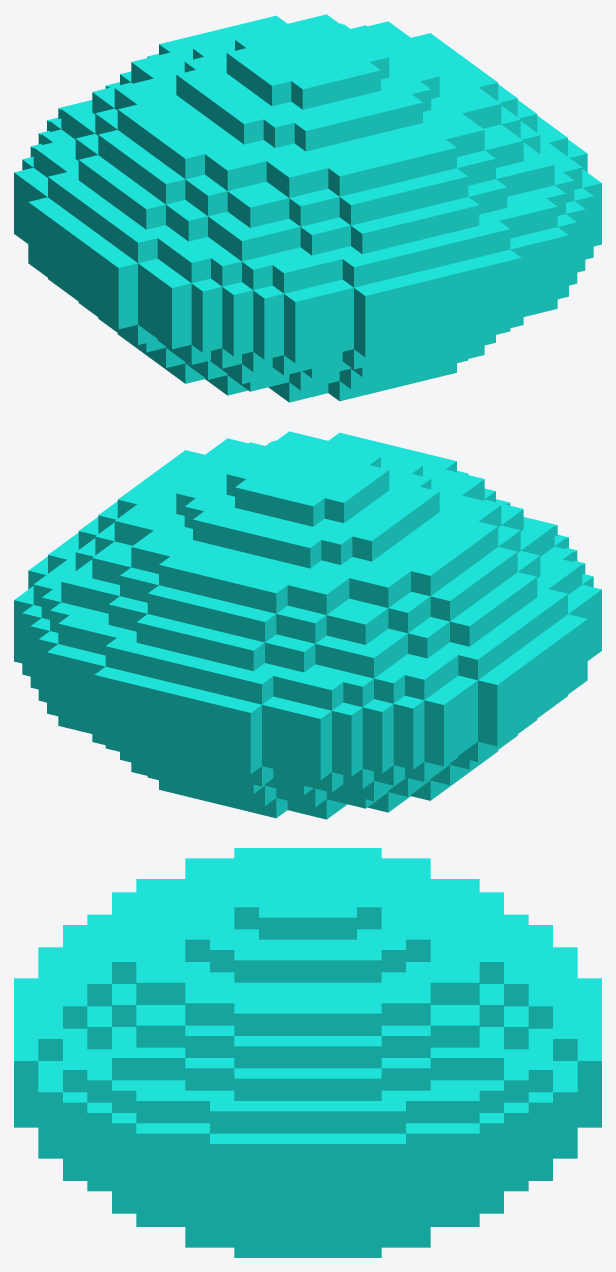
The model's file is SkyEnemyBody.obj.
3 views of the same model, one above another, from view 1: azimuth 30°, elevation 25°; view 2: azimuth 150°, elevation 25°; view 3: azimuth 270°, elevation 25° (orthographic). The views are drawn at different scales.
Size of the model in its own units: 24 by 13 by 24.
1 material, 1 textured.
